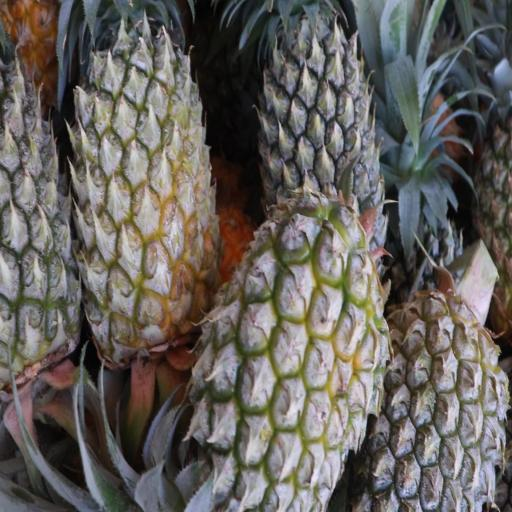------------------------------: (210, 209, 388, 508), (71, 6, 213, 360)
